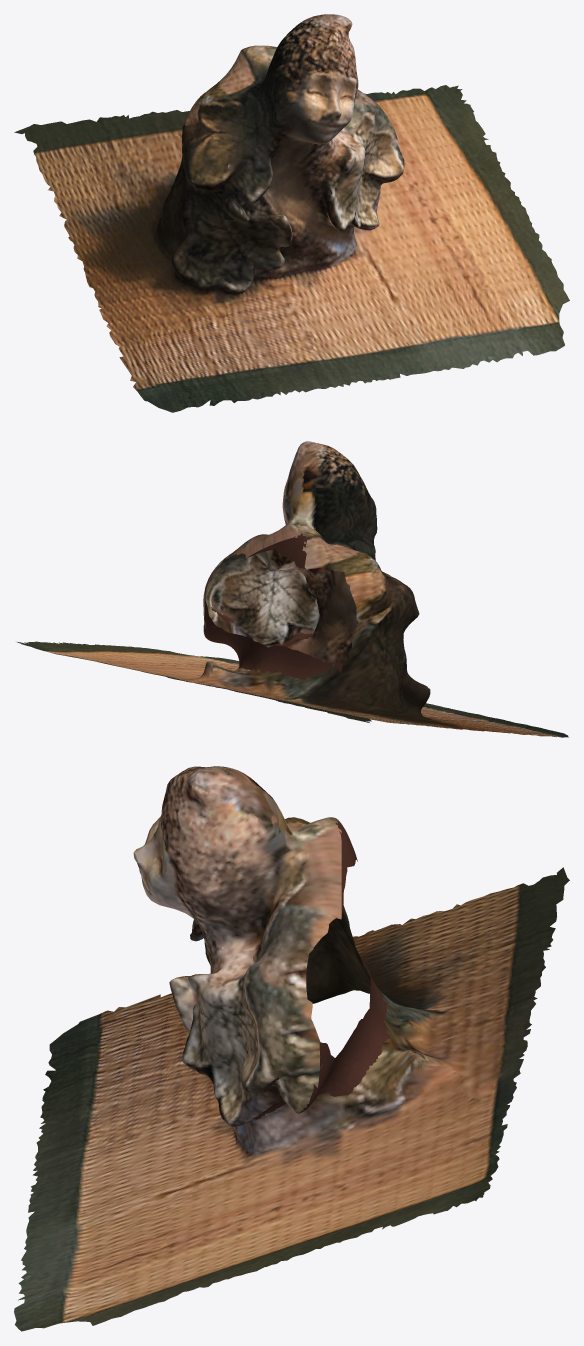
File: noefy.obj
3 renders of one model, top to bottom at view 1: azimuth 30°, elevation 25°; view 2: azimuth 150°, elevation 25°; view 3: azimuth 270°, elevation 25°, orthographic. The views are drawn at different scales.
Size of the model in its own units: 29.58 by 19.7 by 22.09.
1 material, 1 textured.
